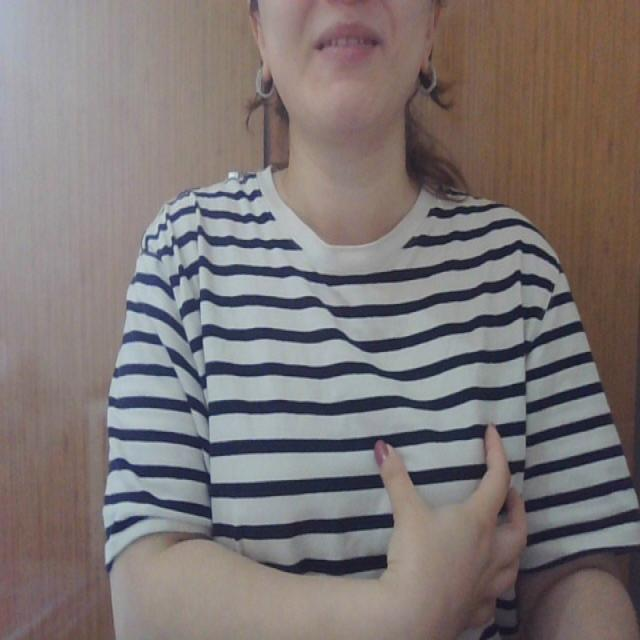Anne: (182, 371, 533, 631)
